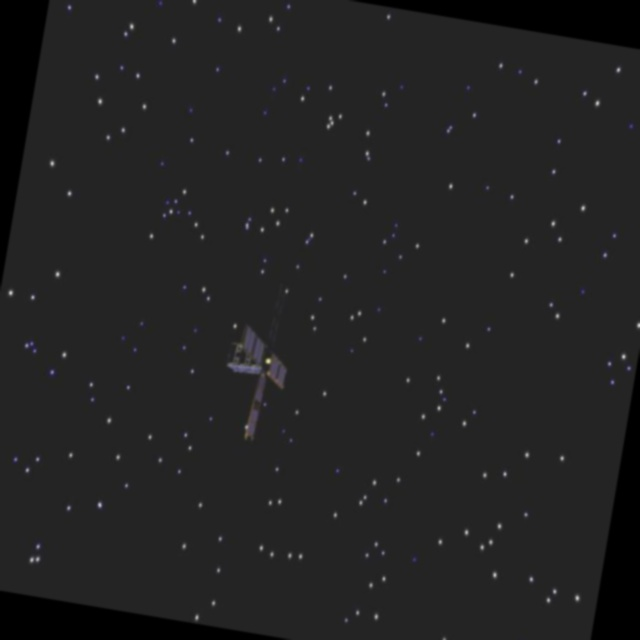satellite: (213, 317, 305, 446)
